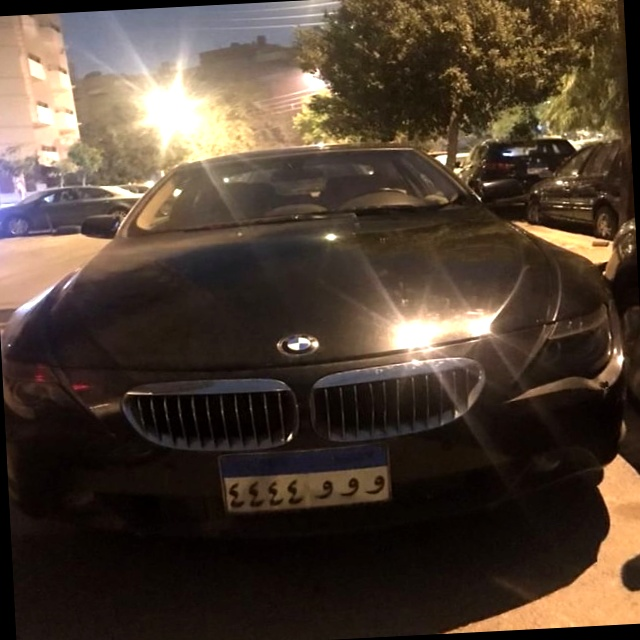License Plate: (216, 438, 396, 521)
